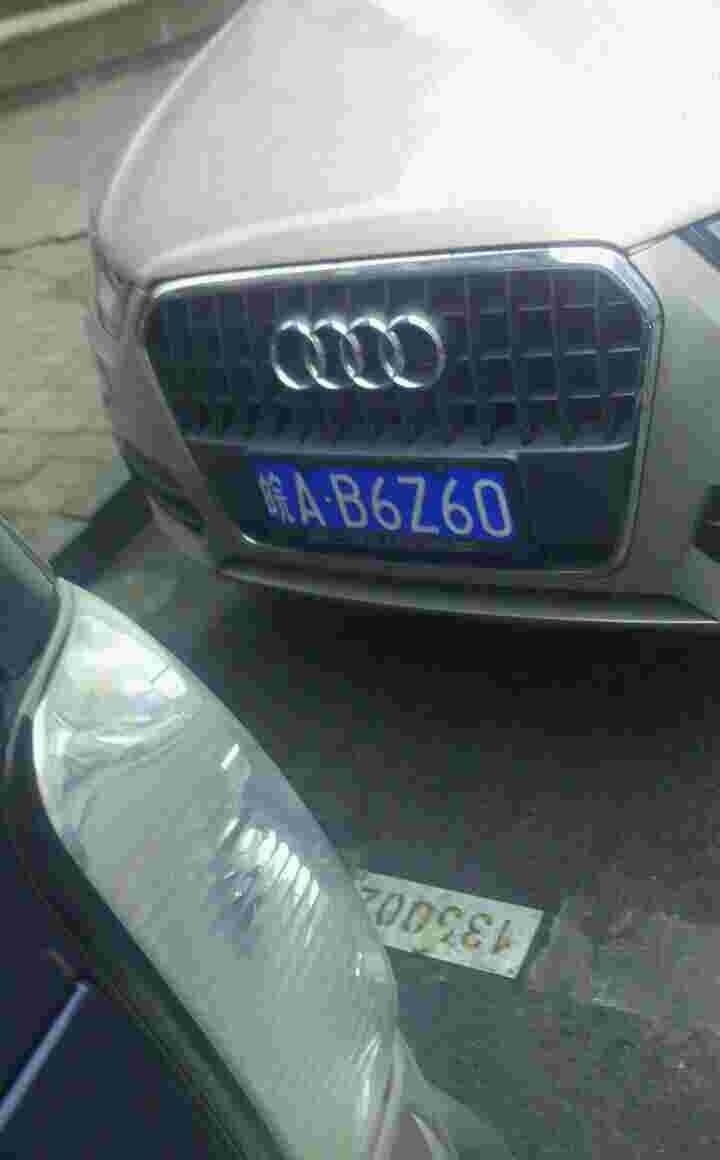license_plate: (239, 466, 526, 548)
